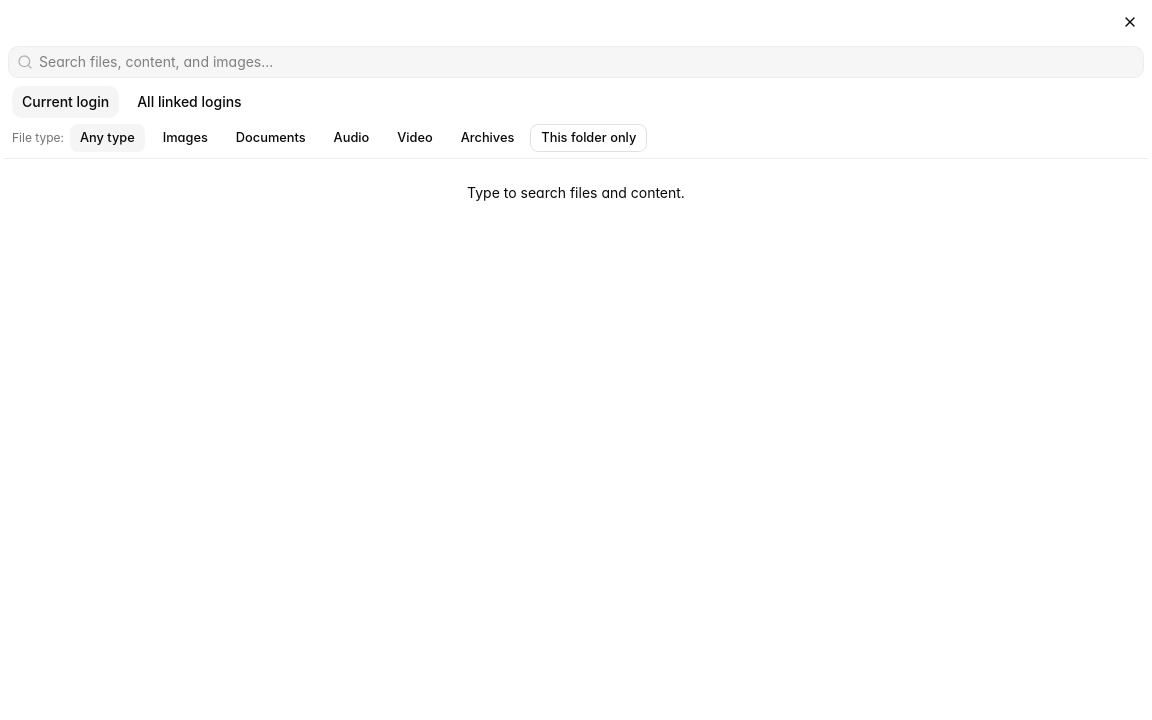
Test case: never renders the Folders heading when the response's folders section is empty
This screenshot has width=1152, height=720.
Type "same" into the dropdown with placeholder "Search files, content, and images..." at (588, 62), box [33, 52, 1143, 72]
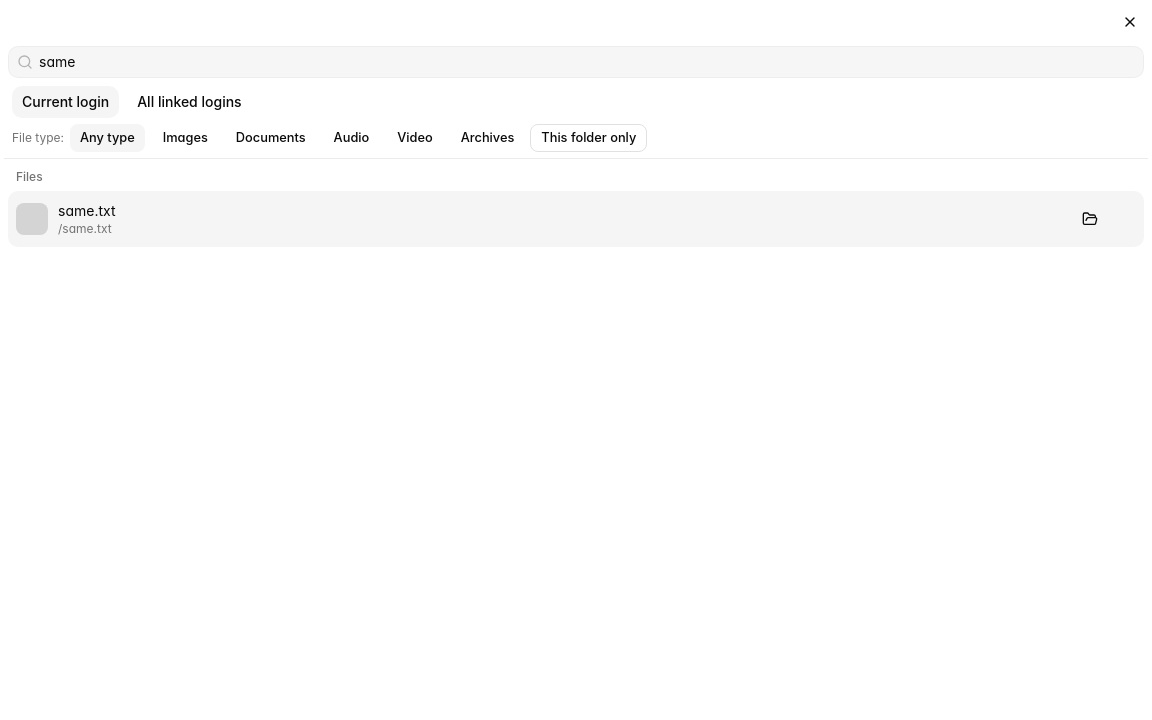
Now the text "same.txt" is shown, box [58, 202, 116, 219]
